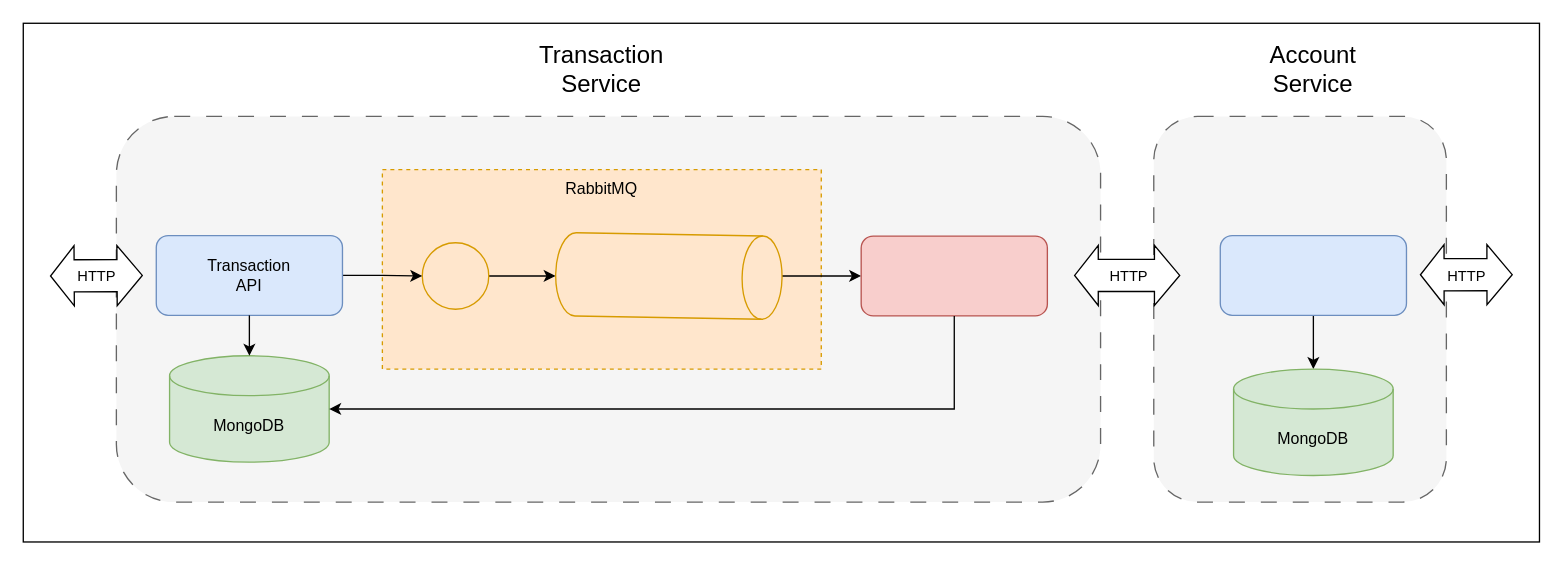
This 1563x565 diagram has some shape labels left out. The shapes that lost their labels are listed below. From the top down, each one's centre as x and y in pixels, then its label:
At [953,275]: "Transaction WORKER".
At [1312,274]: "Account API".
